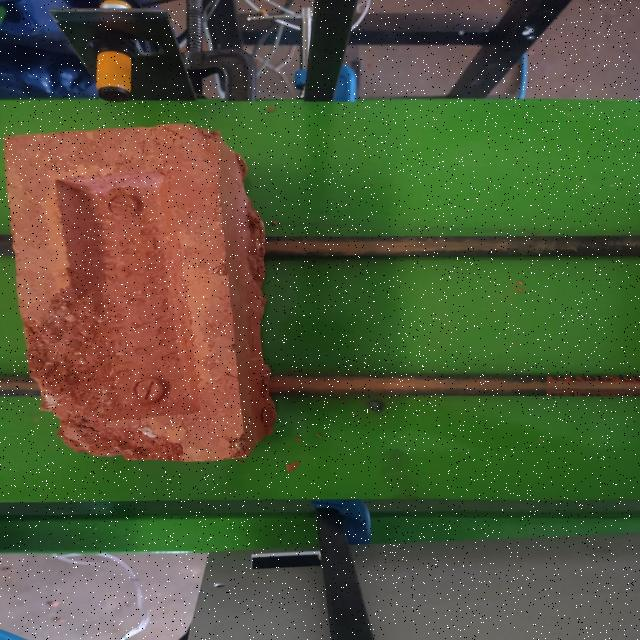bricks_ruin: (3, 127, 278, 465)
